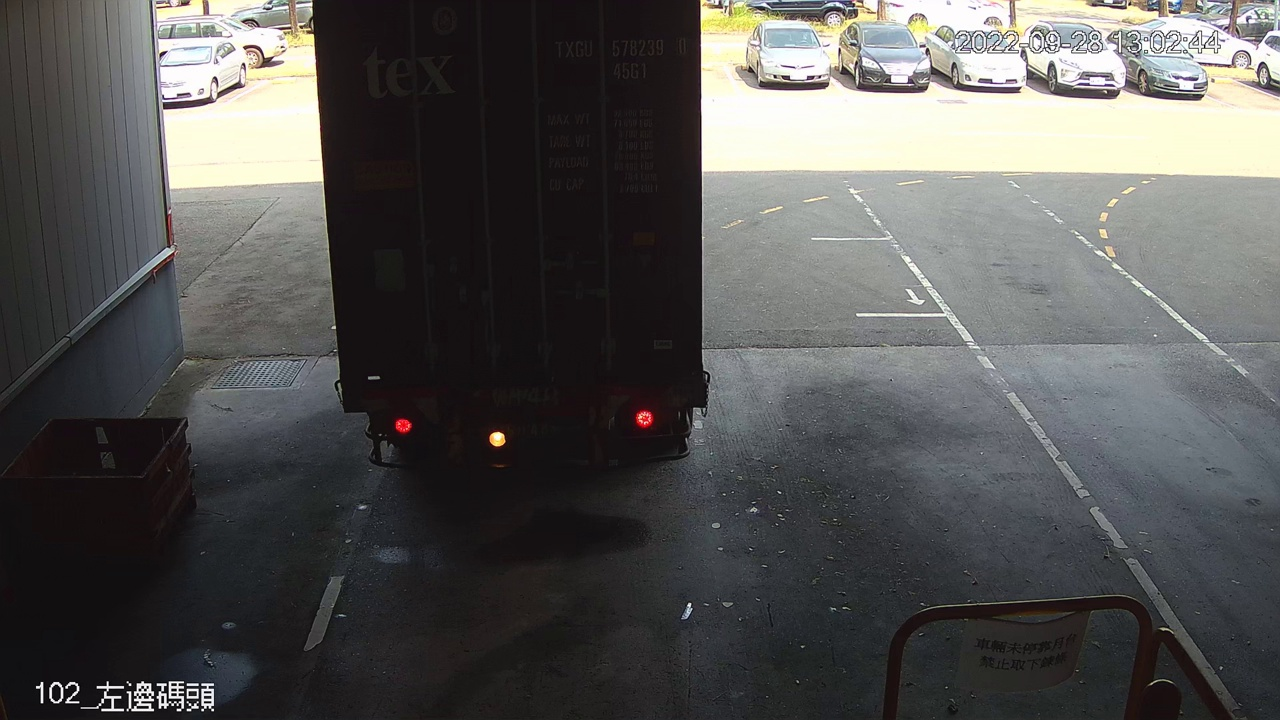container: (548, 30, 694, 84)
